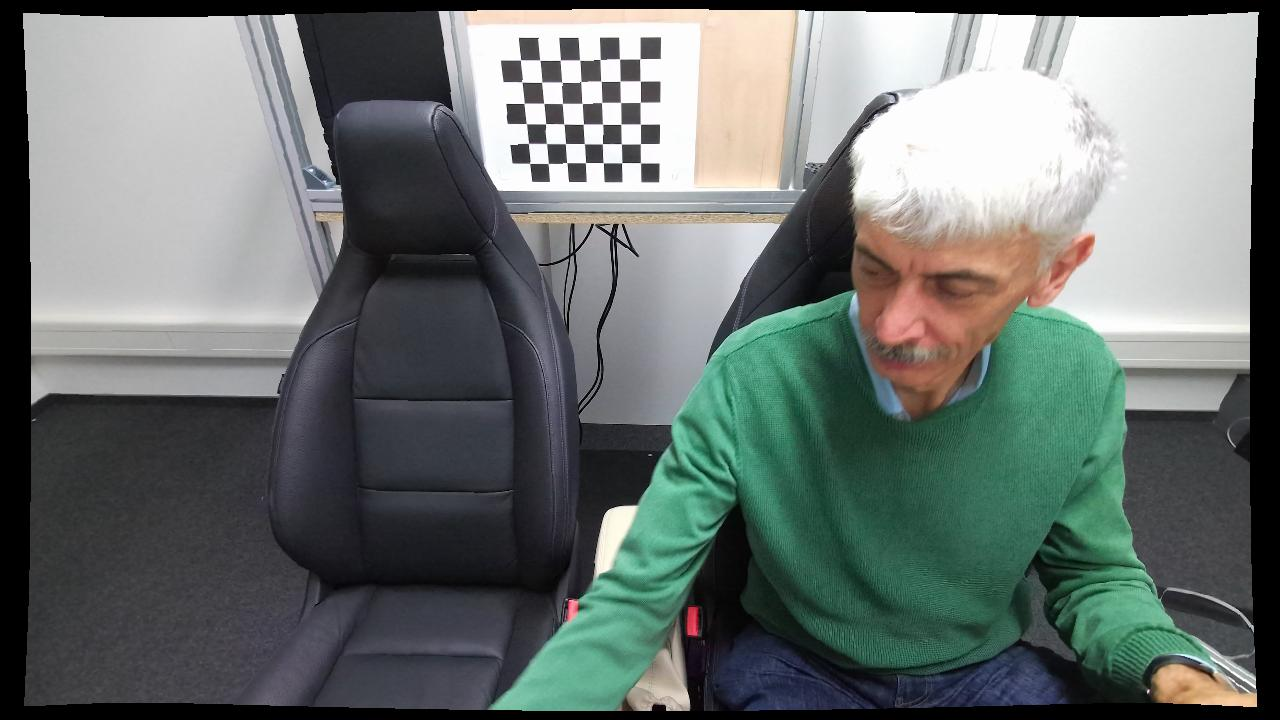Distracted: (485, 55, 1147, 710)
